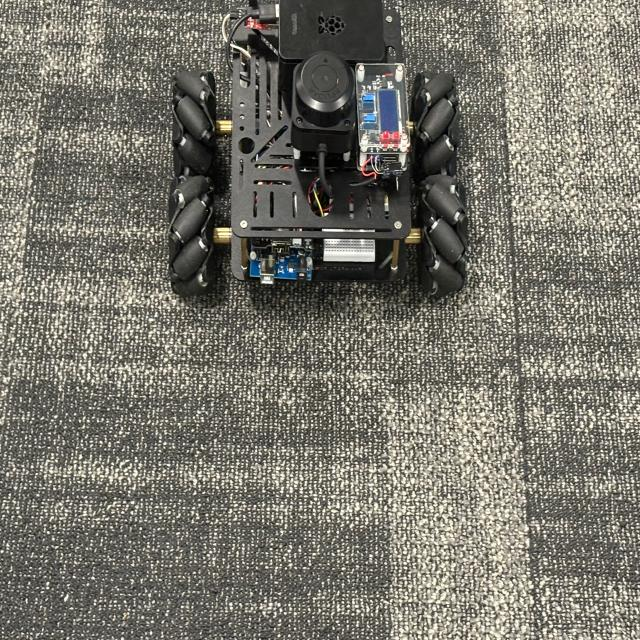ArduinoCar3: (172, 0, 471, 304)
